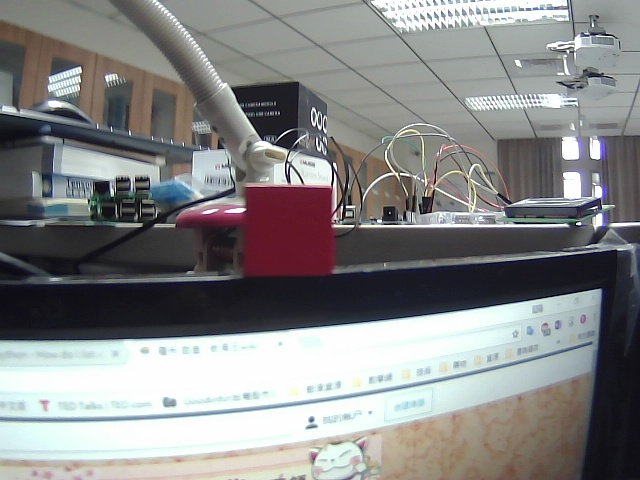redbox: (233, 179, 344, 282)
